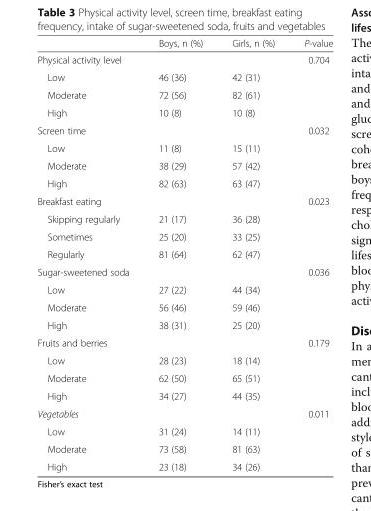table: (36, 37, 332, 472)
table column: (36, 37, 143, 472), (143, 37, 216, 472), (216, 37, 288, 472), (288, 37, 332, 472)
table column header: (36, 37, 332, 50)
table row: (36, 50, 332, 68), (36, 85, 332, 103), (36, 103, 332, 121), (36, 138, 332, 156), (36, 156, 332, 174), (36, 174, 332, 192), (36, 209, 332, 227), (36, 227, 332, 245), (36, 262, 332, 280), (36, 280, 332, 298), (36, 315, 332, 333), (36, 333, 332, 351), (36, 351, 332, 369), (36, 386, 332, 404), (36, 404, 332, 422), (36, 439, 332, 457), (36, 68, 332, 85), (36, 121, 332, 138), (36, 192, 332, 209), (36, 245, 332, 262), (36, 298, 332, 315), (36, 369, 332, 386), (36, 422, 332, 439), (36, 457, 332, 472), (36, 37, 332, 50)
